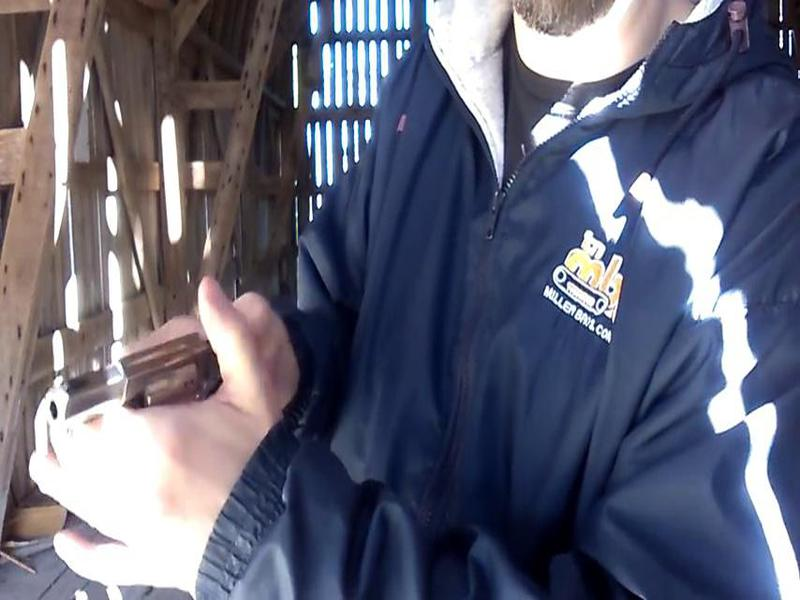Revolver: (28, 314, 258, 493)
